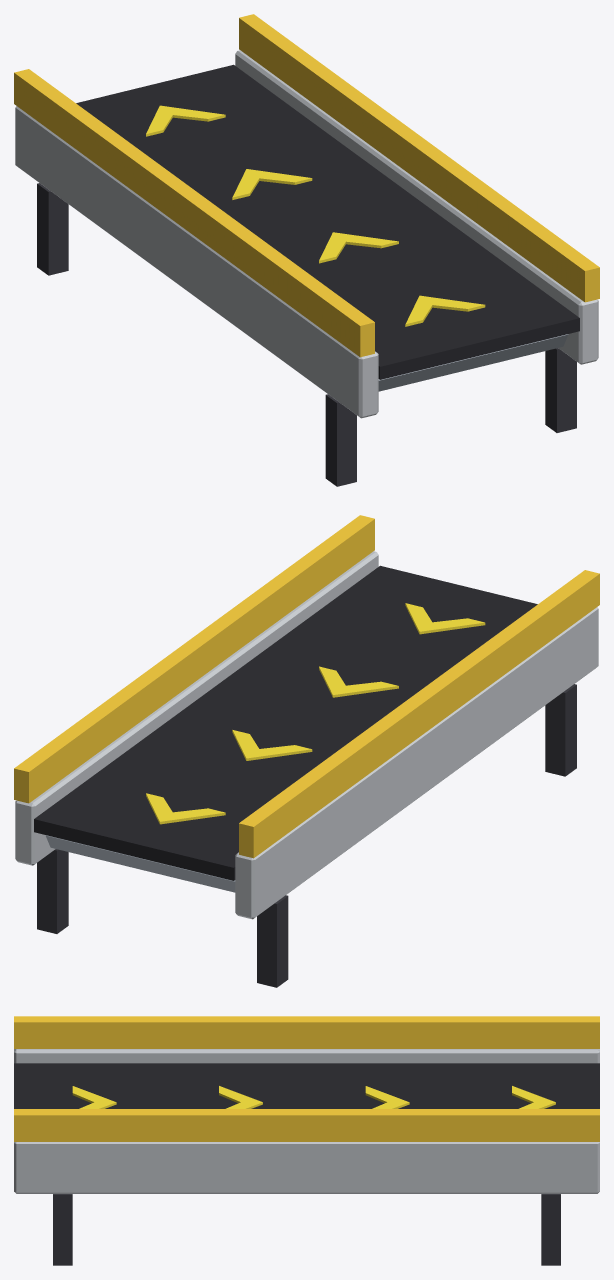
Rendered from Conveyor.fbx.
3 views of the same model, one above another, from view 1: azimuth 30°, elevation 25°; view 2: azimuth 150°, elevation 25°; view 3: azimuth 270°, elevation 25° (orthographic). The views are drawn at different scales.
Parts seen in each view (by area): view 1: Conveyor, Conveyor_Belt; view 2: Conveyor, Conveyor_Belt; view 3: Conveyor, Conveyor_Belt.
Boxes of the visible parts, x1,y1,x2,y2 form: Conveyor: (14, 14, 599, 486); Conveyor_Belt: (76, 64, 579, 379); Conveyor: (14, 515, 599, 987); Conveyor_Belt: (34, 565, 537, 880); Conveyor: (14, 1016, 599, 1265); Conveyor_Belt: (14, 1063, 599, 1108).
Bounding box in the file's own units: 4.8 × 3.4 × 12.
1 material, 1 textured.
